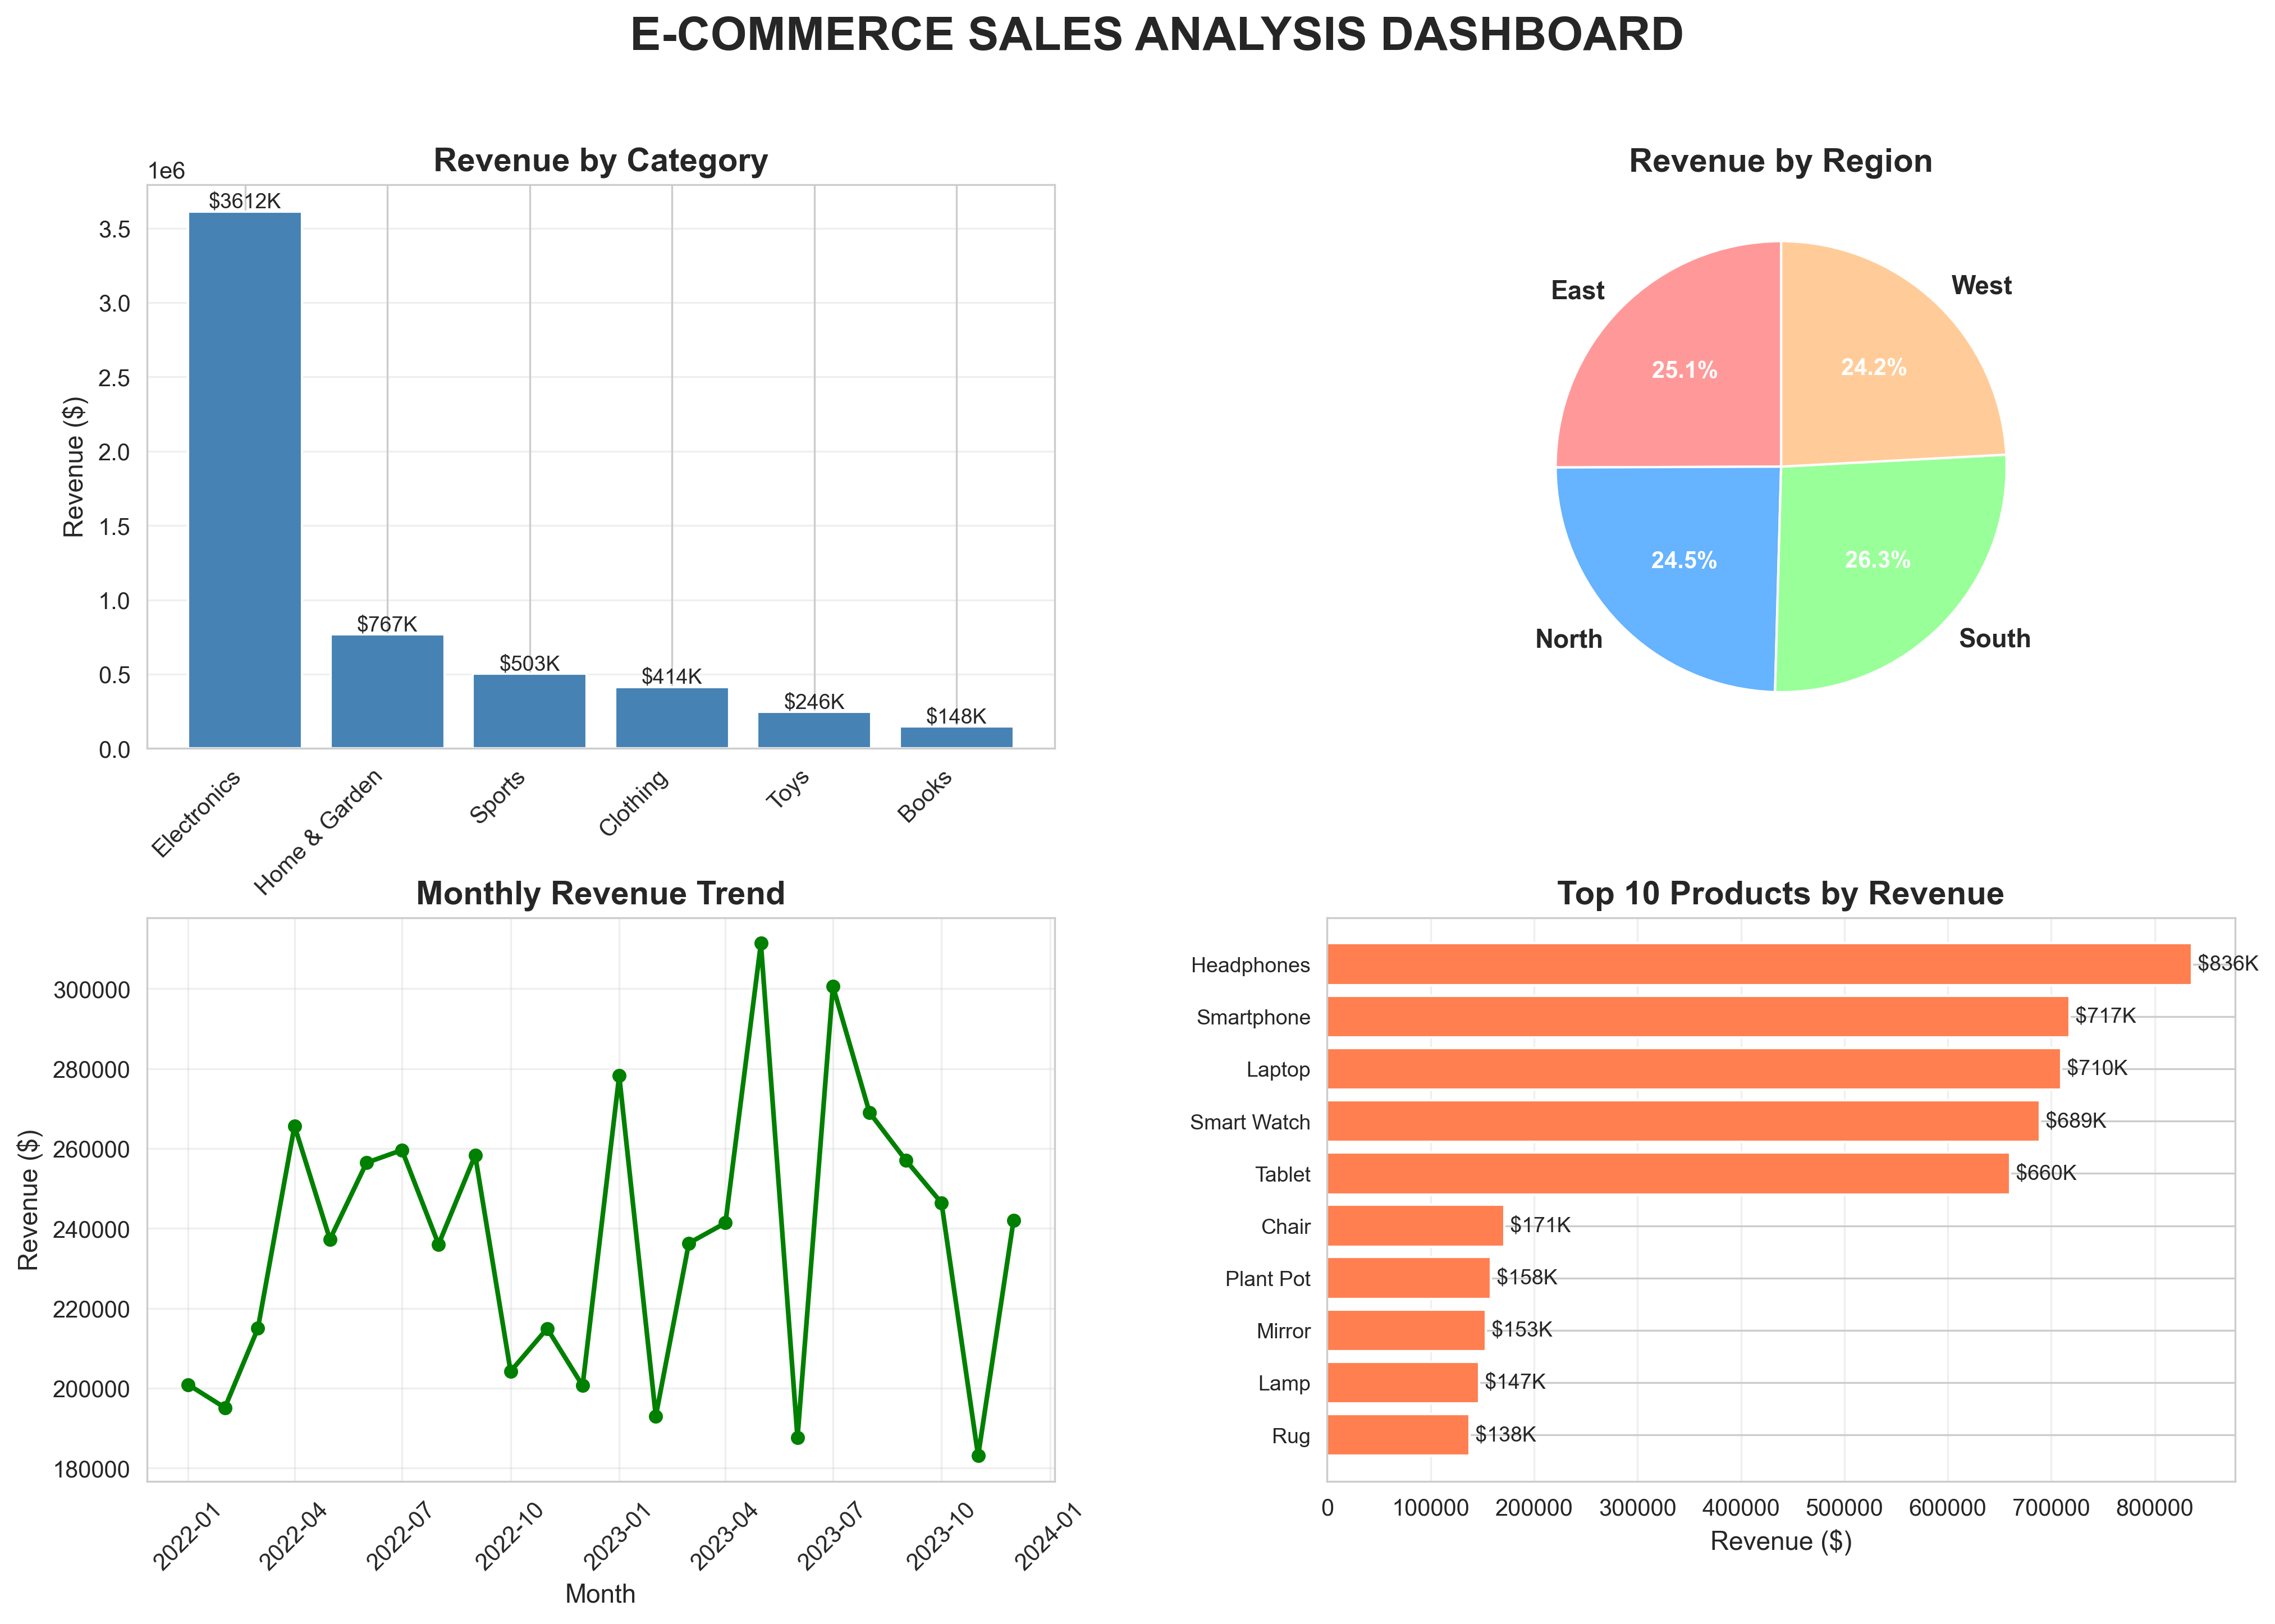

This screenshot's page, from the dashboard's own definition file:
{"tool":"tableau","page":{"name":"Dashboard 1","canvas":[1000,1000],"units":"permille","ordinal":0},"visuals":[{"type":"text","box":[4.7,9.3,990.6,85.3]},{"type":"worksheet","title":"Revenue by Category","mark":"Automatic","rows":["Revenue"],"cols":["Category"],"box":[4.7,94.6,448.5,448]},{"type":"worksheet","title":"Regional Performance","mark":"Circle","box":[453.2,94.6,448.5,448]},{"type":"legend","title":"Revenue by Category","param":"[federated.0muyv380k80ndm1d2loa30yotly3].[none:Category:nk]","box":[901.7,94.6,93.6,170.6]},{"type":"legend","title":"Regional Performance","param":"[federated.0muyv380k80ndm1d2loa30yotly3].[none:Region:nk]","box":[901.7,265.2,93.6,123.8]},{"type":"legend","title":"Top Products","param":"[federated.0muyv380k80ndm1d2loa30yotly3].[sum:Revenue:qk]","box":[901.7,389,93.6,75.9]},{"type":"highlighter","title":"Revenue by Category","param":"[federated.0muyv380k80ndm1d2loa30yotly3].[none:Category:nk]","box":[901.7,465,93.6,60.8]},{"type":"filter","title":"Revenue by Category","param":"[federated.0muyv380k80ndm1d2loa30yotly3].[none:Category:nk]","box":[901.7,525.7,93.6,192.8]},{"type":"worksheet","title":"Monthly Trend","mark":"Line","rows":["Revenue"],"cols":["Date"],"box":[4.7,542.6,448.5,448]},{"type":"worksheet","title":"Top Products","mark":"Bar","rows":["Product"],"cols":["Revenue"],"box":[453.2,542.6,448.5,448]}]}

Visuals, with their boxes on the dashboard's canvas, which has no fixed pixel size, in thousandths of its width and height (x1, y1, x2, y2). These are canvas units, not pixel positions in the 2275x1624 screenshot, which may show the page scaled, cropped or inside an application window:
text: pyautogui.locateOnScreen(5, 9, 995, 95)
"Revenue by Category" worksheet: pyautogui.locateOnScreen(5, 95, 453, 543)
"Regional Performance" worksheet (Circle marks): pyautogui.locateOnScreen(453, 95, 902, 543)
"Revenue by Category" legend: pyautogui.locateOnScreen(902, 95, 995, 265)
"Regional Performance" legend: pyautogui.locateOnScreen(902, 265, 995, 389)
"Top Products" legend: pyautogui.locateOnScreen(902, 389, 995, 465)
"Revenue by Category" highlighter: pyautogui.locateOnScreen(902, 465, 995, 526)
"Revenue by Category" filter: pyautogui.locateOnScreen(902, 526, 995, 718)
"Monthly Trend" worksheet (Line marks): pyautogui.locateOnScreen(5, 543, 453, 991)
"Top Products" worksheet (Bar marks): pyautogui.locateOnScreen(453, 543, 902, 991)
